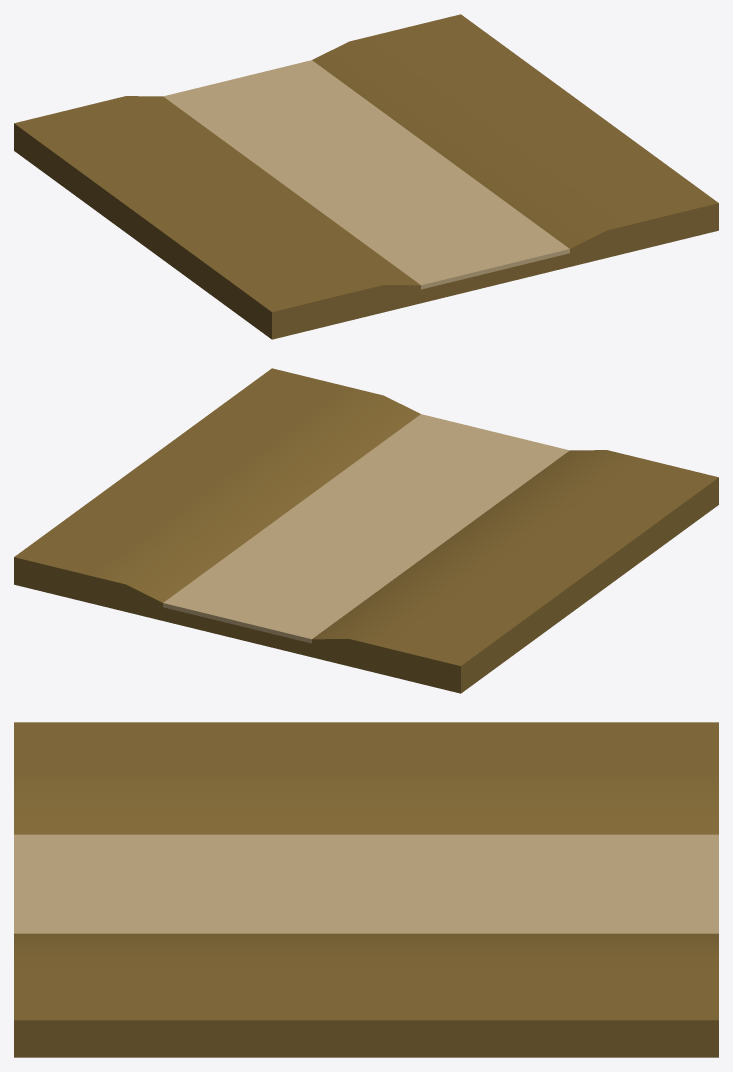
File: oldRoad_Standard.fbx
The picture shows the model from 3 angles, top to bottom: view 1: azimuth 30°, elevation 25°; view 2: azimuth 150°, elevation 25°; view 3: azimuth 270°, elevation 25°; orthographic projection. The views are drawn at different scales.
Visible parts, largest first — view 1: yuka, miti; view 2: yuka, miti; view 3: yuka, miti.
Part boxes in pixels (x1,y1,x2,y2): yuka: (14,14,718,339); miti: (163,60,569,289); yuka: (14,368,718,693); miti: (163,414,569,643); yuka: (14,722,718,1057); miti: (14,834,718,933).
Bounding box in the file's own units: 1700 × 100 × 1700.
